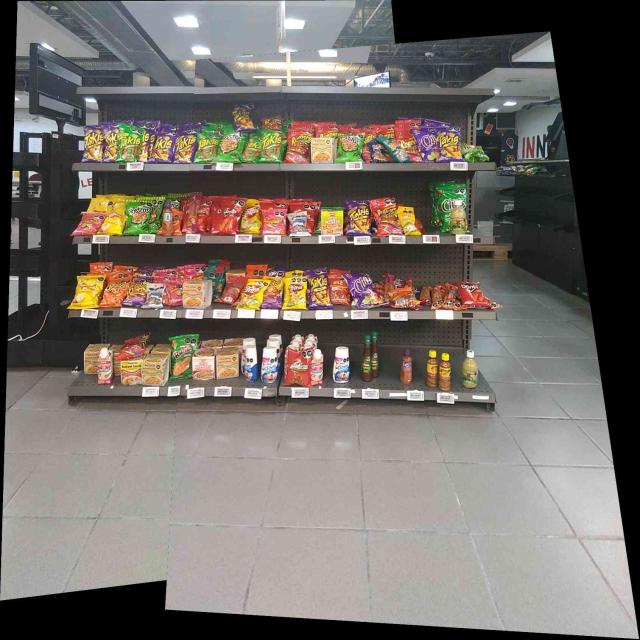bitzEnchilado90: (331, 274, 346, 304)
bitzEnchilado95: (442, 284, 456, 308), (432, 287, 442, 308)
bitzHabanero: (187, 194, 200, 232), (384, 274, 394, 306), (420, 285, 431, 305)
bokadosCacahuates: (369, 140, 383, 161)
botaneraChilito: (439, 354, 451, 391), (426, 349, 438, 386)
cheetosFlaminHot: (265, 270, 282, 307), (128, 278, 144, 306)
cheetosOriginal: (105, 277, 123, 306)
chipsFuego: (351, 274, 377, 305), (422, 128, 438, 161)
chipsJalapeno: (440, 184, 450, 233)
churrumais: (263, 210, 286, 234), (80, 214, 100, 234), (168, 281, 182, 306)
delPrimoSalsa: (462, 350, 478, 388), (451, 200, 465, 234)
doritosNacho: (220, 200, 238, 233), (459, 282, 483, 306)
fritosLimon: (243, 279, 263, 310), (285, 279, 304, 308), (243, 204, 260, 232)
leoCacahuates: (290, 213, 307, 235), (148, 285, 161, 307)
maruchanPollo: (183, 279, 209, 308), (142, 357, 166, 386), (216, 349, 239, 377), (311, 138, 335, 162)
maruchanRes: (120, 361, 142, 385)
nestleCarnation: (98, 350, 112, 382), (312, 352, 323, 384)
nestleLechera: (333, 348, 350, 382), (262, 348, 278, 382), (245, 346, 258, 382)
nissinCamaron: (321, 210, 343, 236)
nissinRes: (193, 349, 214, 379)
productoAtras: (222, 279, 238, 303), (396, 289, 414, 307)
rancheritos: (288, 349, 309, 385)
rufflesQueso: (172, 337, 191, 378)
runners: (374, 199, 398, 234), (286, 128, 308, 162), (122, 334, 146, 357), (405, 128, 420, 162), (263, 115, 283, 129)
sabritasOriginal: (77, 277, 99, 307), (105, 213, 123, 233)
salsaBufalo: (362, 334, 371, 381), (372, 331, 379, 377)
semillasCalabaza: (402, 208, 416, 234)
semillasGirasol: (388, 144, 403, 163)
tajinDulce: (400, 348, 413, 383), (163, 202, 173, 236)
takisFuego: (308, 269, 328, 307), (348, 200, 369, 234), (439, 128, 460, 161), (174, 129, 194, 162), (84, 126, 102, 161), (154, 130, 172, 162), (234, 103, 252, 129), (105, 123, 117, 160)
takisOriginal: (120, 124, 138, 160), (197, 132, 217, 162), (262, 131, 281, 162), (244, 134, 260, 161)
tostitos: (127, 200, 149, 233), (220, 132, 241, 162), (338, 134, 360, 160)
